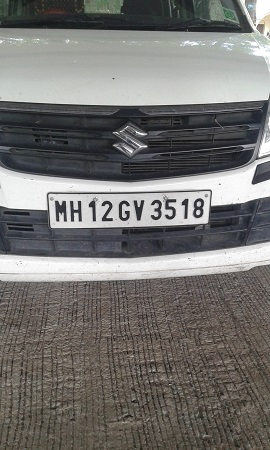licenseplate: (46, 189, 218, 228)
